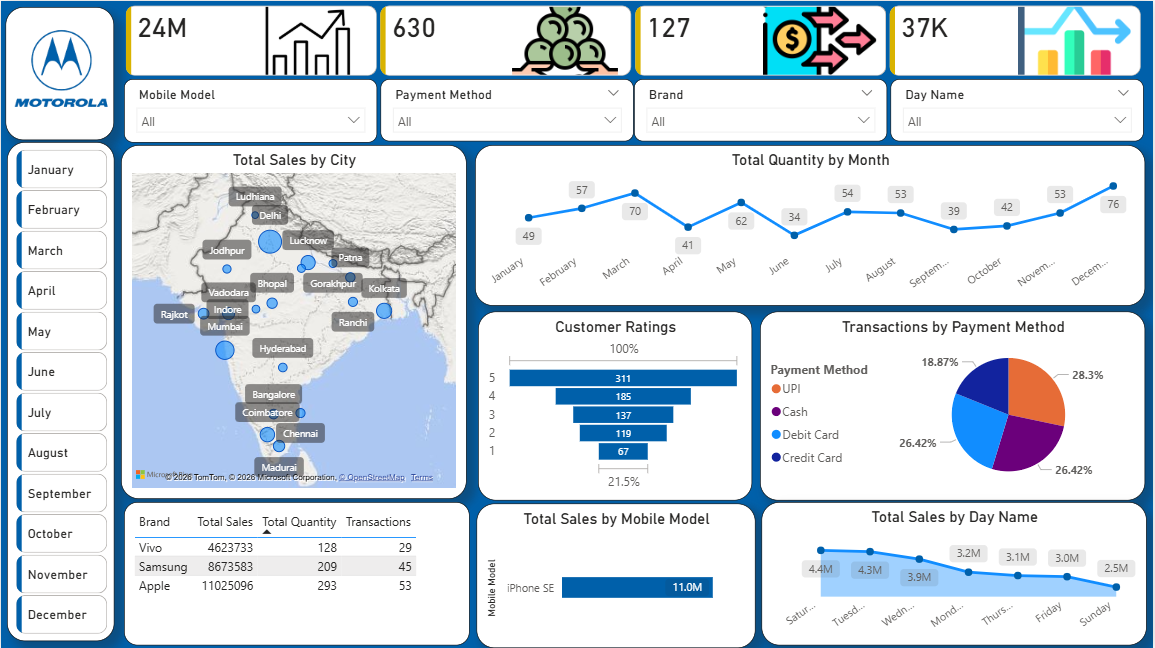

The page's visual inventory and layout, read from the dashboard file:
{"tool":"powerbi","page":{"name":"Page 1","canvas":[1280,720],"ordinal":0},"visuals":[{"type":"shape","box":[5.5,6.9,120.8,148.2],"z":0},{"type":"image","box":[9.6,16.5,113.9,116.6],"z":1000},{"type":"shape","box":[6.9,156.4,119.4,554.4],"z":2000},{"type":"advancedSlicerVisual","fields":{"Values":["Sales_Data.Date.Variation.Date Hierarchy.Month"]},"box":[11,160.5,111.1,548.9],"z":3000},{"type":"cardVisual","fields":{"Data":["Sales_Data.Total Sales","Sales_Data.Total Quantity","Sales_Data.Transactions","Sales_Data.Average"]},"box":[134,5.6,1140.1,83.7],"z":4000},{"type":"map","fields":{"Category":["Sales_Data.City"],"Size":["Sales_Data.Total Sales"]},"box":[132.9,160.8,384.1,393.1],"z":5000},{"type":"lineChart","fields":{"Y":["Sales_Data.Total Quantity"],"Category":["Sales_Data.Date.Variation.Date Hierarchy.Month","Sales_Data.Date.Variation.Date Hierarchy.Day"]},"box":[525.9,160.8,744.8,178.7],"z":6000},{"type":"clusteredBarChart","fields":{"Category":["Sales_Data.Mobile Model"],"Y":["Sales_Data.Total Sales"]},"box":[528.3,558.5,310.1,160.5],"z":7000},{"type":"pieChart","fields":{"Category":["Sales_Data.Payment Method"],"Y":["Sales_Data.Transactions"]},"box":[842.5,344.4,428.1,209.9],"z":8000},{"type":"funnel","title":"Customer Ratings","fields":{"Category":["Sales_Data.Customer Ratings"],"Y":["CountNonNull(Sales_Data.Customer Ratings)"]},"box":[529.7,344.4,304.6,209.9],"z":9000},{"type":"areaChart","fields":{"Category":["Sales_Data.Day Name"],"Y":["Sales_Data.Total Sales"]},"box":[845.3,557.1,428.1,159.2],"z":10000},{"type":"tableEx","fields":{"Values":["Sales_Data.Brand","Sales_Data.Total Sales","Sales_Data.Total Quantity","Sales_Data.Transactions"]},"box":[135.8,557.1,384.2,159.2],"z":11000},{"type":"slicer","fields":{"Values":["Sales_Data.Mobile Model"]},"box":[136.2,87.1,281.4,70.3],"z":12000},{"type":"slicer","fields":{"Values":["Sales_Data.Payment Method"]},"box":[421,87.1,281.4,69.2],"z":13000},{"type":"slicer","fields":{"Values":["Sales_Data.Brand"]},"box":[703.5,87.1,281.4,69.2],"z":14000},{"type":"slicer","fields":{"Values":["Sales_Data.Day Name"]},"box":[988.2,87.1,281.4,69.2],"z":15000}]}

Visuals, with their boxes in screenshot pixels (x1, y1, x2, y2), scaled from the page's 1280x720 canvas onto the 1155x648 screenshot:
shape: pyautogui.locateOnScreen(5, 6, 114, 140)
image: pyautogui.locateOnScreen(9, 15, 111, 120)
shape: pyautogui.locateOnScreen(6, 141, 114, 640)
advancedSlicerVisual - Sales_Data.Date.Variation.Date Hierarchy.Month: pyautogui.locateOnScreen(10, 144, 110, 638)
cardVisual - Sales_Data.Total Sales x Sales_Data.Total Quantity: pyautogui.locateOnScreen(121, 5, 1150, 80)
map - Sales_Data.City x Sales_Data.Total Sales: pyautogui.locateOnScreen(120, 145, 467, 499)
lineChart - Sales_Data.Total Quantity x Sales_Data.Date.Variation.Date Hierarchy.Month: pyautogui.locateOnScreen(475, 145, 1147, 306)
clusteredBarChart - Sales_Data.Mobile Model x Sales_Data.Total Sales: pyautogui.locateOnScreen(477, 503, 757, 647)
pieChart - Sales_Data.Payment Method x Sales_Data.Transactions: pyautogui.locateOnScreen(760, 310, 1147, 499)
"Customer Ratings" funnel: pyautogui.locateOnScreen(478, 310, 753, 499)
areaChart - Sales_Data.Day Name x Sales_Data.Total Sales: pyautogui.locateOnScreen(763, 501, 1149, 645)
tableEx - Sales_Data.Brand x Sales_Data.Total Sales: pyautogui.locateOnScreen(123, 501, 469, 645)
slicer - Sales_Data.Mobile Model: pyautogui.locateOnScreen(123, 78, 377, 142)
slicer - Sales_Data.Payment Method: pyautogui.locateOnScreen(380, 78, 634, 141)
slicer - Sales_Data.Brand: pyautogui.locateOnScreen(635, 78, 889, 141)
slicer - Sales_Data.Day Name: pyautogui.locateOnScreen(892, 78, 1146, 141)
